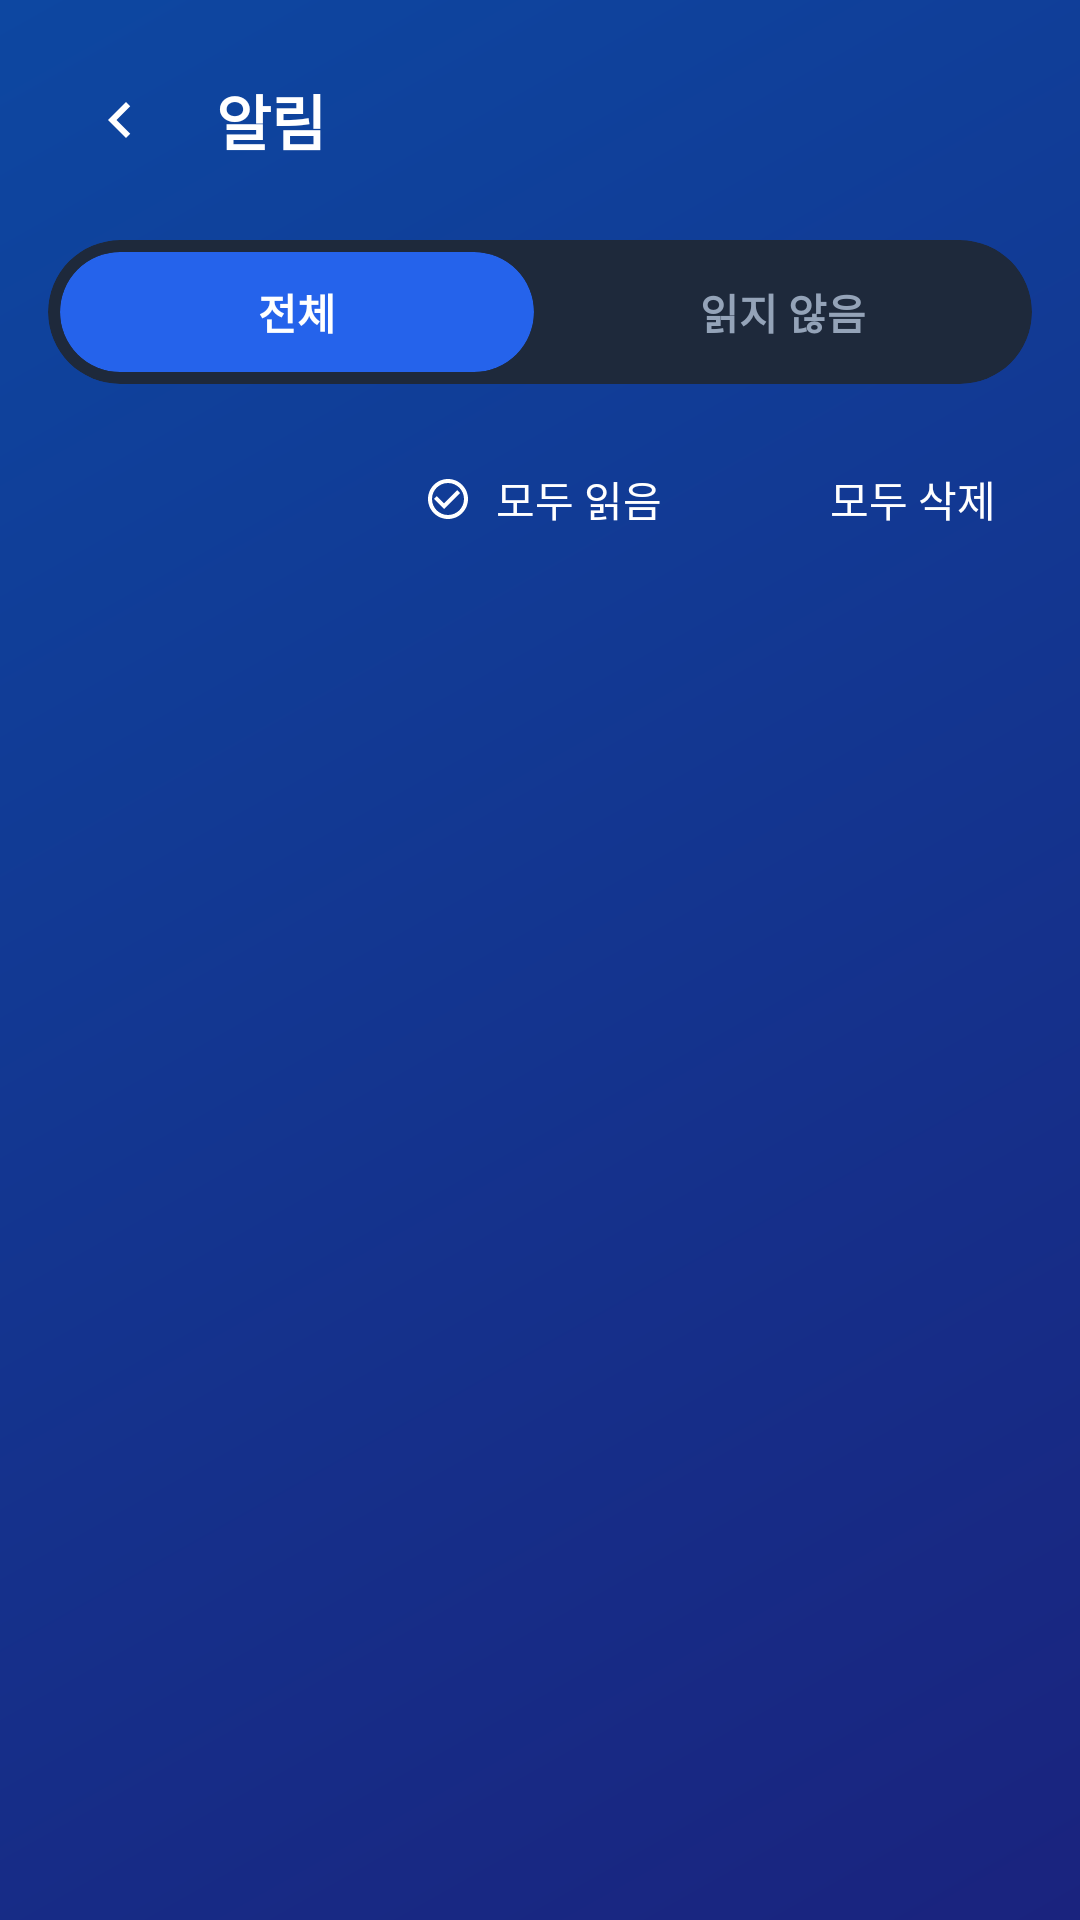

Screen size 1080px x 1920px. Icon name, then its center in pixels as point (x, y):
check circle: point (448, 499)
뒤로가기: point (119, 120)
